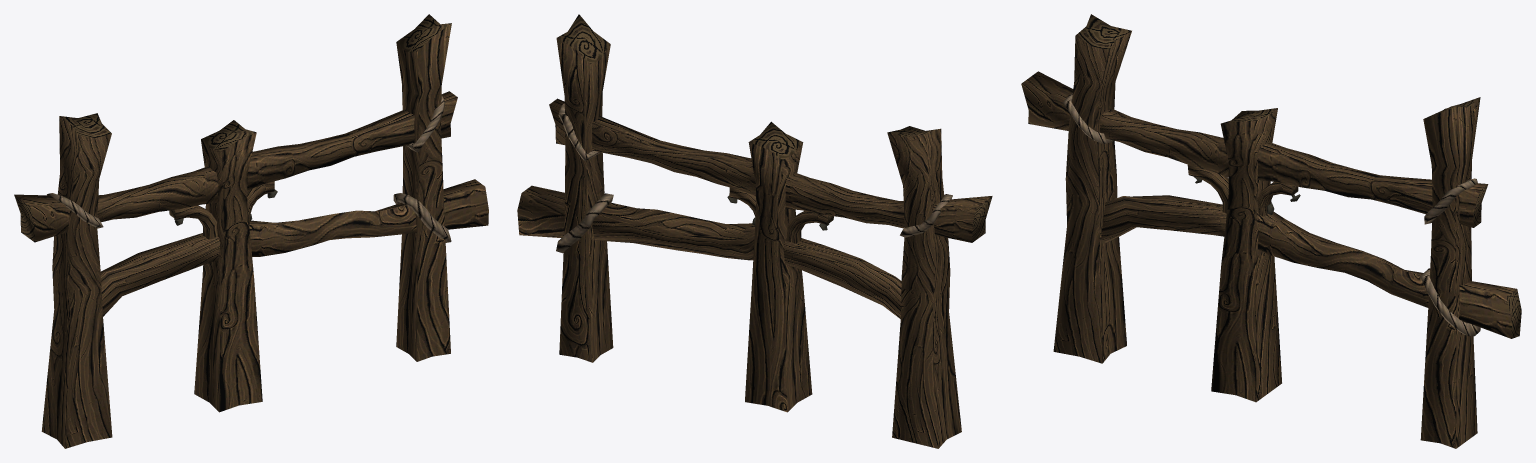
Rendered from Fence.fbx.
The picture shows the model from 3 angles, left to right: view 1: azimuth 30°, elevation 25°; view 2: azimuth 150°, elevation 25°; view 3: azimuth 330°, elevation 25°; orthographic projection. The views are drawn at different scales.
Visible parts, largest first — view 1: node_id376; view 2: node_id376; view 3: node_id376.
Boxes of the visible parts, <box> form: node_id376: <box>14,14,488,448</box>; node_id376: <box>517,14,992,448</box>; node_id376: <box>1021,14,1521,448</box>.
Bounding box in the file's own units: 0.512 × 0.3466 × 0.0476.
Materials: 1 (1 with a texture image).
